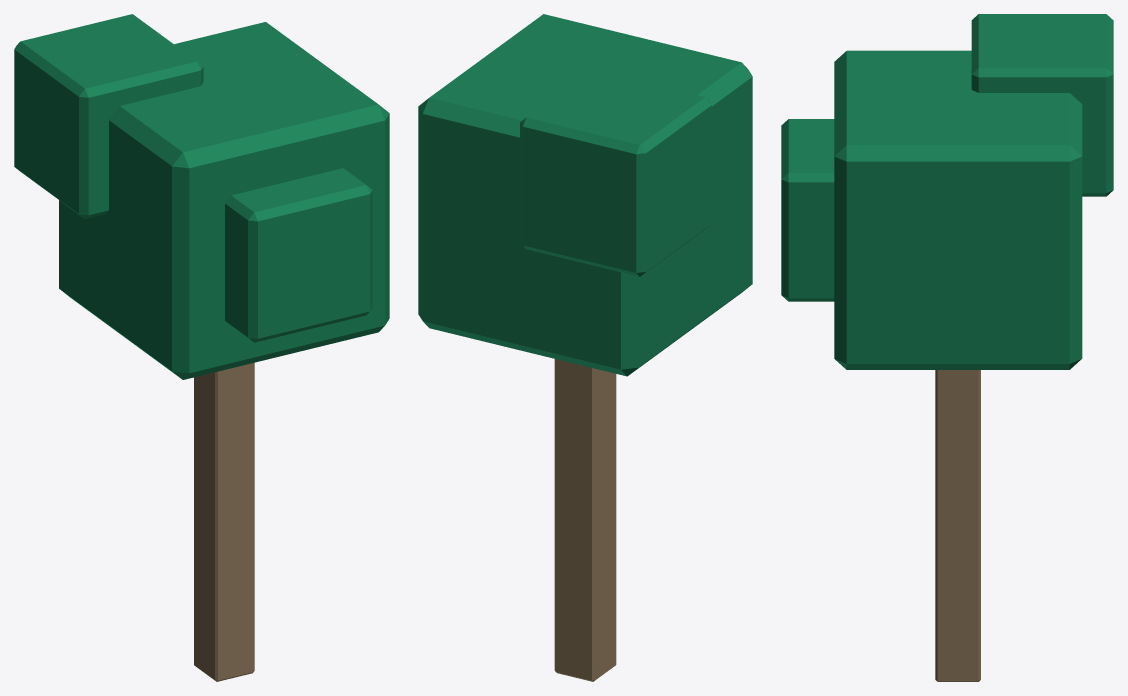
The model's file is Tree.fbx.
The picture shows the model from 3 angles, left to right: view 1: azimuth 30°, elevation 25°; view 2: azimuth 150°, elevation 25°; view 3: azimuth 270°, elevation 25°; orthographic projection. The views are drawn at different scales.
Visible parts, largest first — view 1: Boom2; view 2: Boom2; view 3: Boom2.
Part boxes in pixels (x1,y1,x2,y2): Boom2: (14,14,389,681); Boom2: (418,14,752,681); Boom2: (781,14,1113,681).
Bounding box in the file's own units: 6.11 × 14.48 × 7.3.
